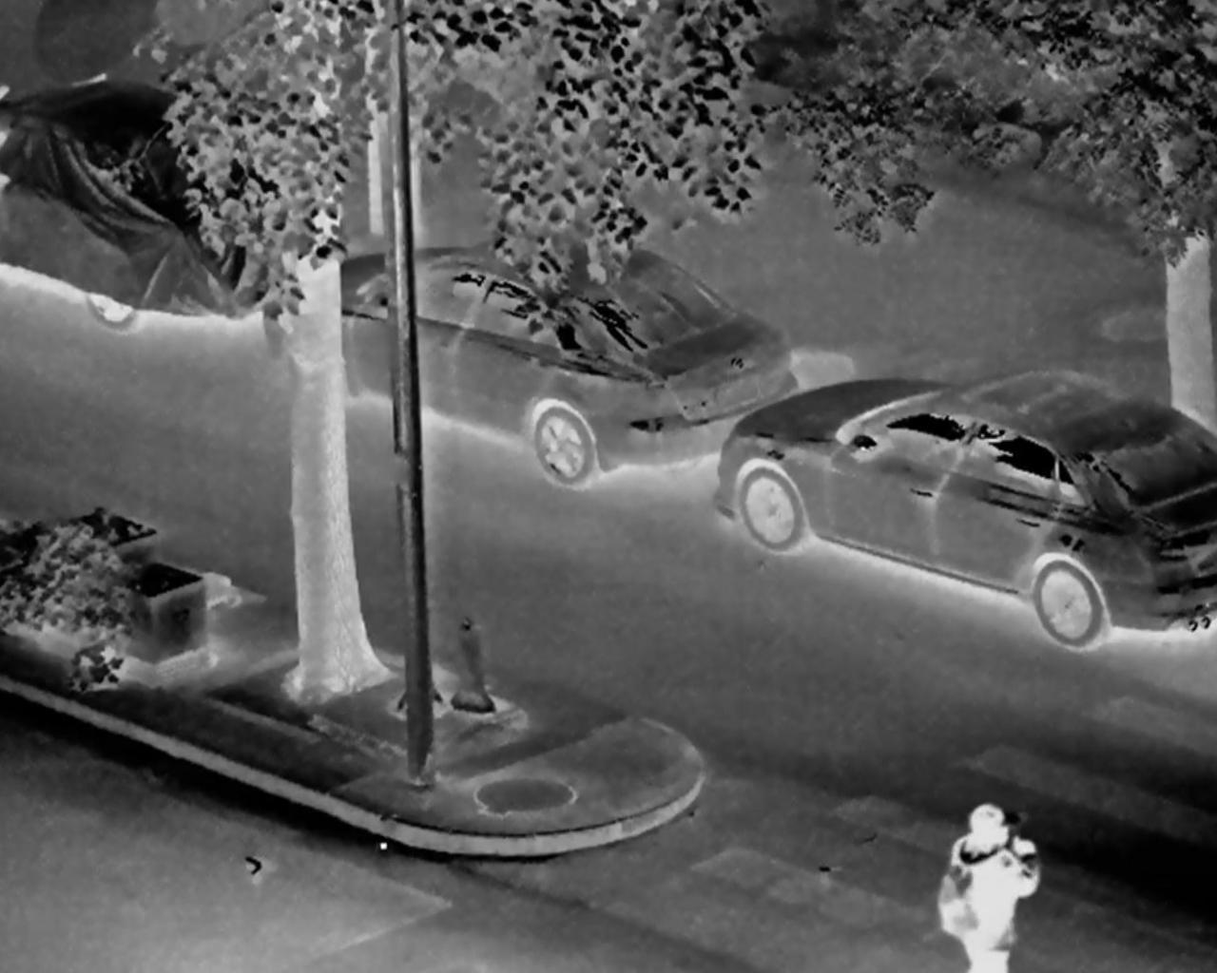person: (939, 805, 1042, 967)
